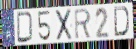2: (95, 6, 111, 39)
5: (36, 10, 51, 42)
D: (16, 11, 35, 44), (113, 6, 130, 38)
R: (74, 7, 93, 40)
X: (55, 8, 73, 42)
